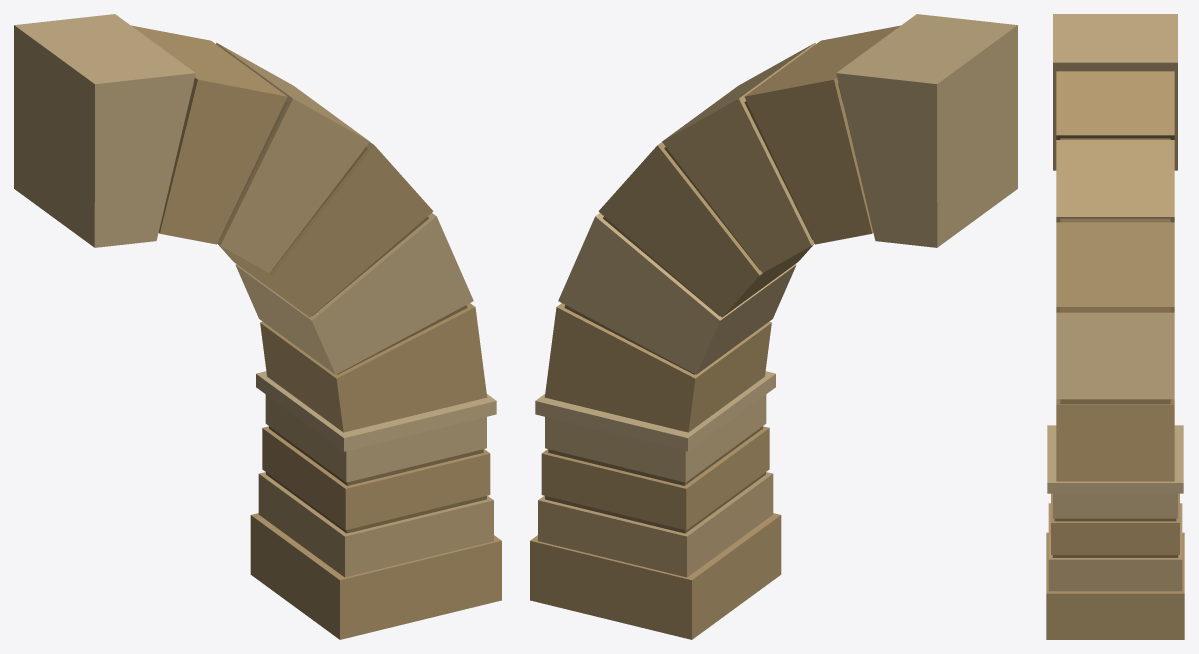
The model's file is arch-west.glb.
3 renders of one model, left to right at view 1: azimuth 30°, elevation 25°; view 2: azimuth 150°, elevation 25°; view 3: azimuth 270°, elevation 25°, orthographic. The views are drawn at different scales.
Parts seen in each view (by area): view 1: arch-west; view 2: arch-west; view 3: arch-west.
Part boxes in pixels (box(x1,y1,x2,y2)): arch-west: box(14, 14, 501, 639); arch-west: box(530, 14, 1017, 639); arch-west: box(1046, 14, 1184, 639).
Bounding box in the file's own units: 4.38 × 6.35 × 1.68.
